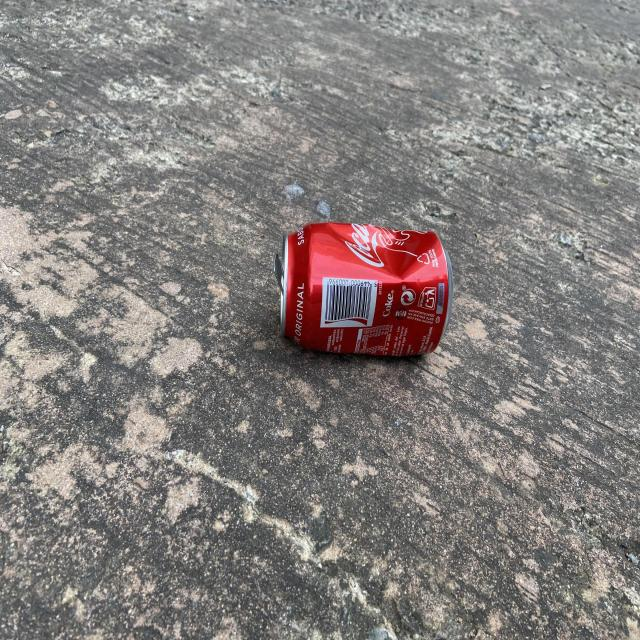can: (274, 222, 454, 357)
